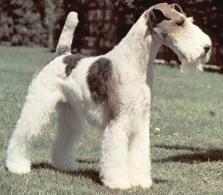wire-haired_fox_terrier: (4, 1, 214, 191)
